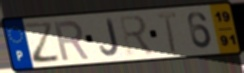6: (186, 11, 214, 51)
J: (99, 17, 121, 58)
R: (117, 13, 157, 57), (52, 19, 91, 63)
T: (155, 11, 179, 56)
Z: (21, 20, 62, 65)
